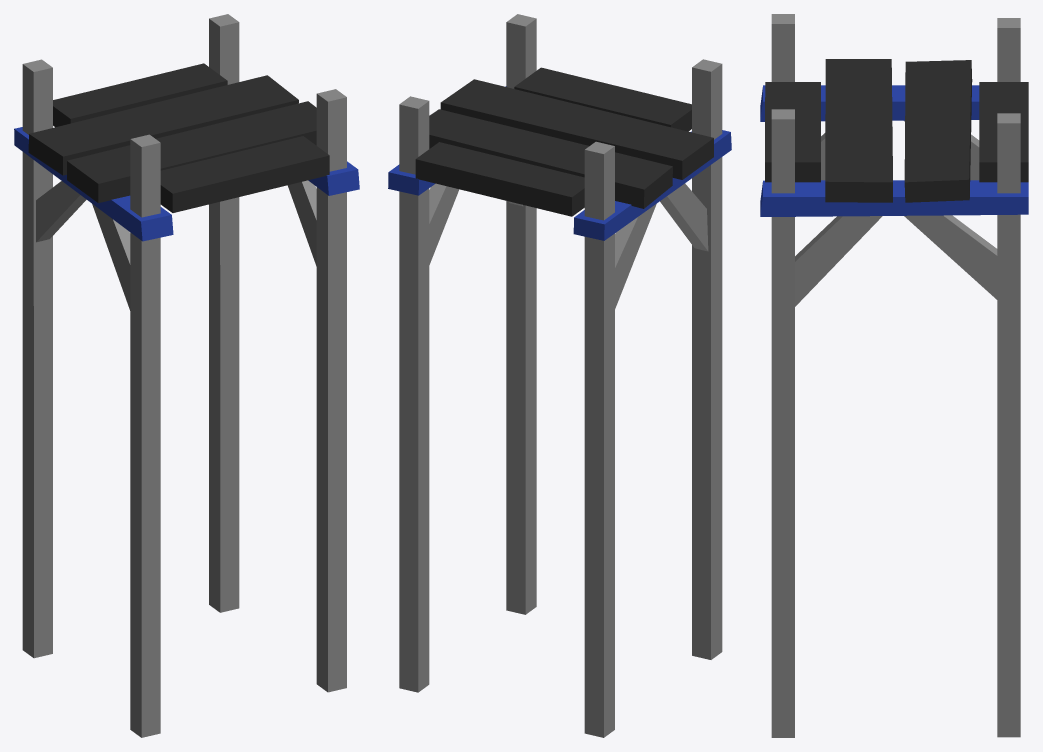
File: Dock_01_mm.fbx
The picture shows the model from 3 angles, left to right: view 1: azimuth 30°, elevation 25°; view 2: azimuth 150°, elevation 25°; view 3: azimuth 270°, elevation 25°; orthographic projection. The views are drawn at different scales.
Parts seen in each view (by area): view 1: Dock_01; view 2: Dock_01; view 3: Dock_01.
Part boxes in pixels (box(x1,y1,x2,y2)): Dock_01: box(14, 14, 359, 737); Dock_01: box(388, 14, 731, 737); Dock_01: box(760, 14, 1028, 737).
Bounding box in the file's own units: 215 × 503 × 198.
